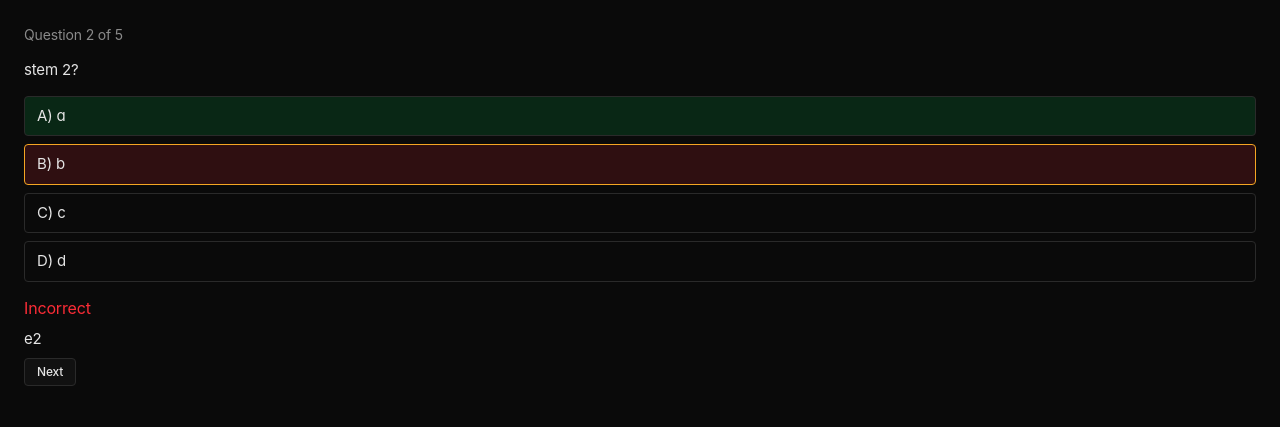
QuizAnswering › resume restores the last answered question in its submitted state; Next continues at first unanswered
Expected: the element with test id "quiz-answering" shows "Question 2 of 5", [24,26,123,43]
Expected: the heading with test id "quiz-stem" reads "stem 2?", [24,60,78,79]
Note: Next advances to the first unanswered question (Q3), blank.
Click the button with test id "quiz-next" at (50, 372), box [24,358,76,386]
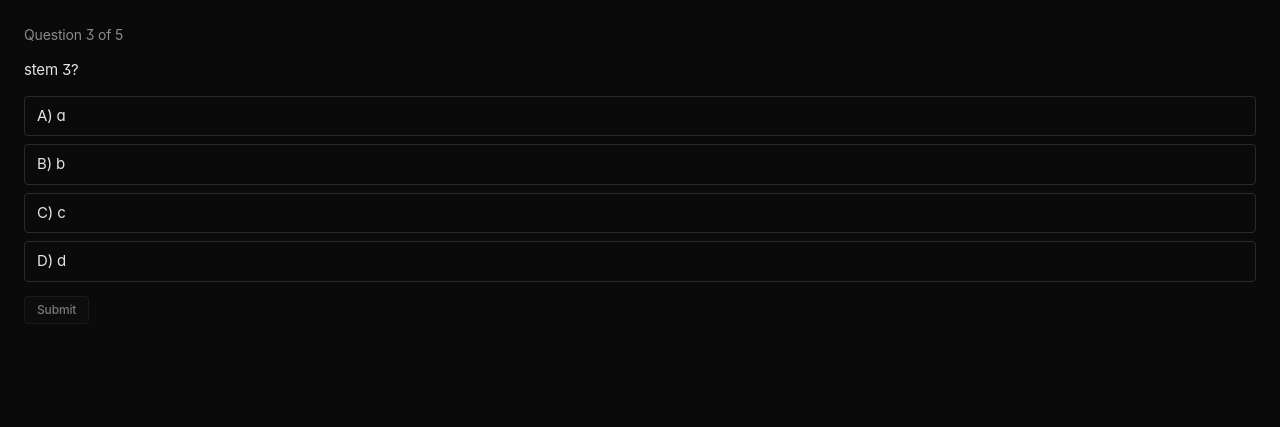
Expected: the element with test id "quiz-answering" shows "Question 3 of 5", [24,26,123,43]
Expected: the heading with test id "quiz-stem" reads "stem 3?", [24,60,79,79]
Expected: the text with test id "quiz-verdict" is gone
